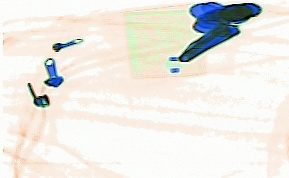knife: (175, 17, 238, 62)
